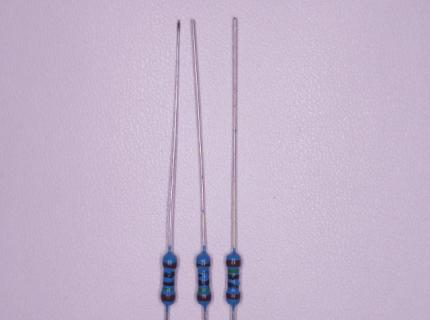Black band: (198, 279, 210, 286), (163, 272, 175, 278), (227, 282, 239, 288), (198, 272, 210, 277), (228, 274, 240, 279), (163, 281, 174, 286)
Brown band: (161, 293, 176, 302), (226, 292, 241, 300), (226, 259, 241, 267), (197, 294, 211, 301), (162, 262, 177, 268), (196, 263, 211, 267)
Green band: (162, 287, 175, 291), (198, 288, 210, 292), (228, 269, 239, 273)
